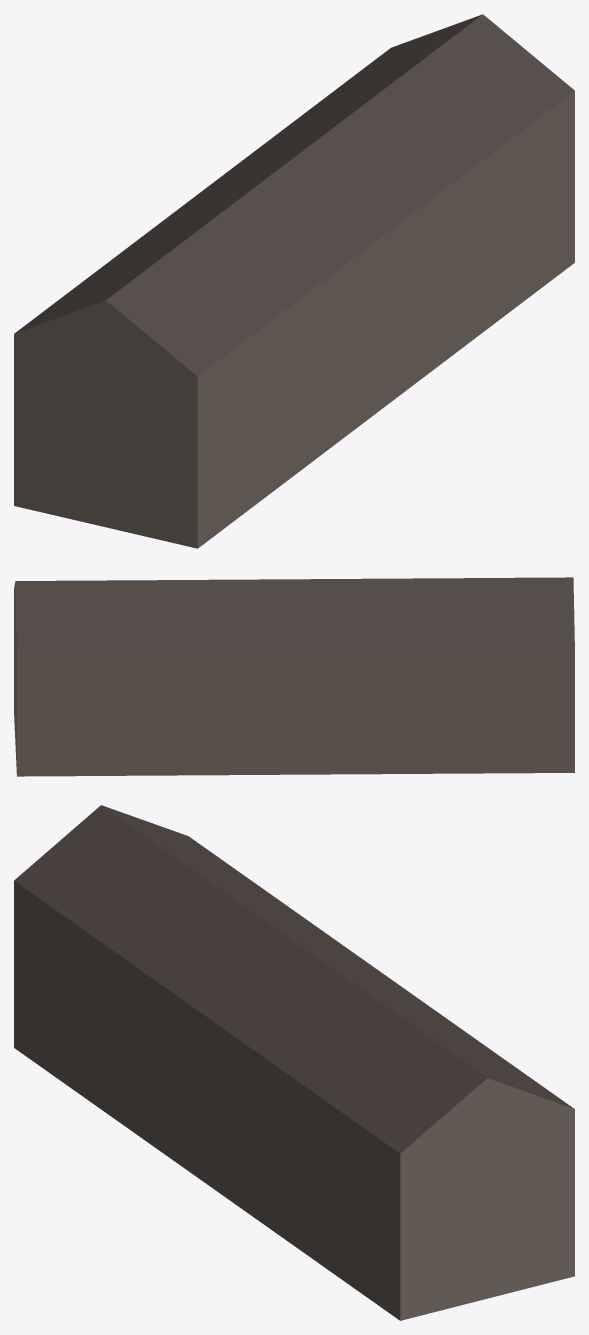
3 views of the same model, one above another, from view 1: azimuth 30°, elevation 25°; view 2: azimuth 150°, elevation 25°; view 3: azimuth 270°, elevation 25° (orthographic). The views are drawn at different scales.
Visible parts, largest first — view 1: HP-w389702019; view 2: HP-w389702019; view 3: HP-w389702019.
Part boxes in pixels (x1,y1,x2,y2): HP-w389702019: (14,14,574,548); HP-w389702019: (14,577,574,776); HP-w389702019: (14,805,574,1320).
Bounding box in the file's own units: 36.68 × 11.87 × 27.37.
